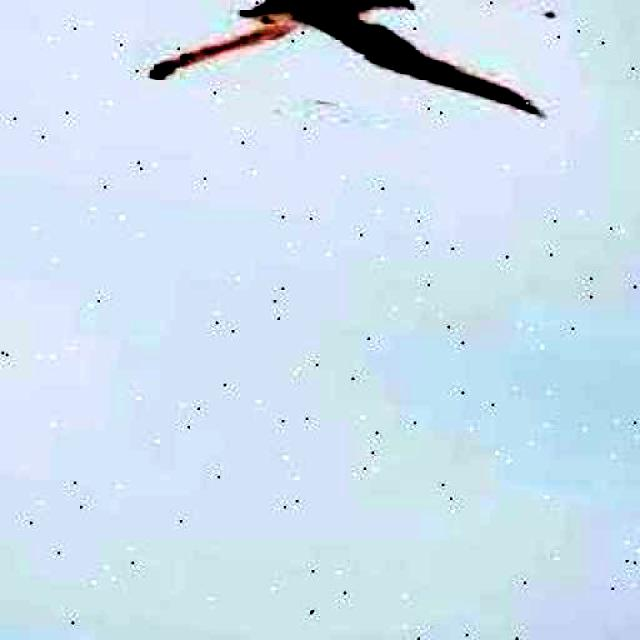airplane: (134, 0, 574, 135)
